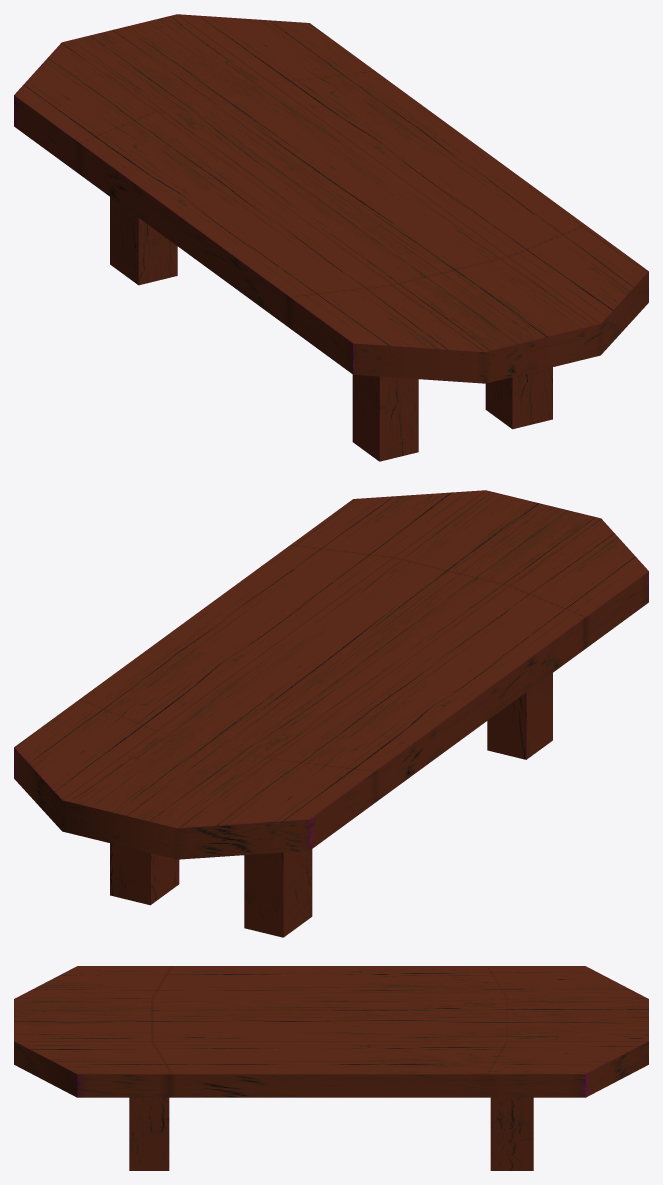
File: dinningtable.fbx
3 renders of one model, top to bottom at view 1: azimuth 30°, elevation 25°; view 2: azimuth 150°, elevation 25°; view 3: azimuth 270°, elevation 25°, orthographic. The views are drawn at different scales.
Parts seen in each view (by area): view 1: pCube1; view 2: pCube1; view 3: pCube1.
Boxes of the visible parts, box(x1,y1,x2,y2) form: pCube1: box(14, 14, 648, 461); pCube1: box(14, 490, 648, 937); pCube1: box(14, 966, 648, 1170).
Bounding box in the file's own units: 56.98 × 29.2 × 141.
1 material, 1 textured.
